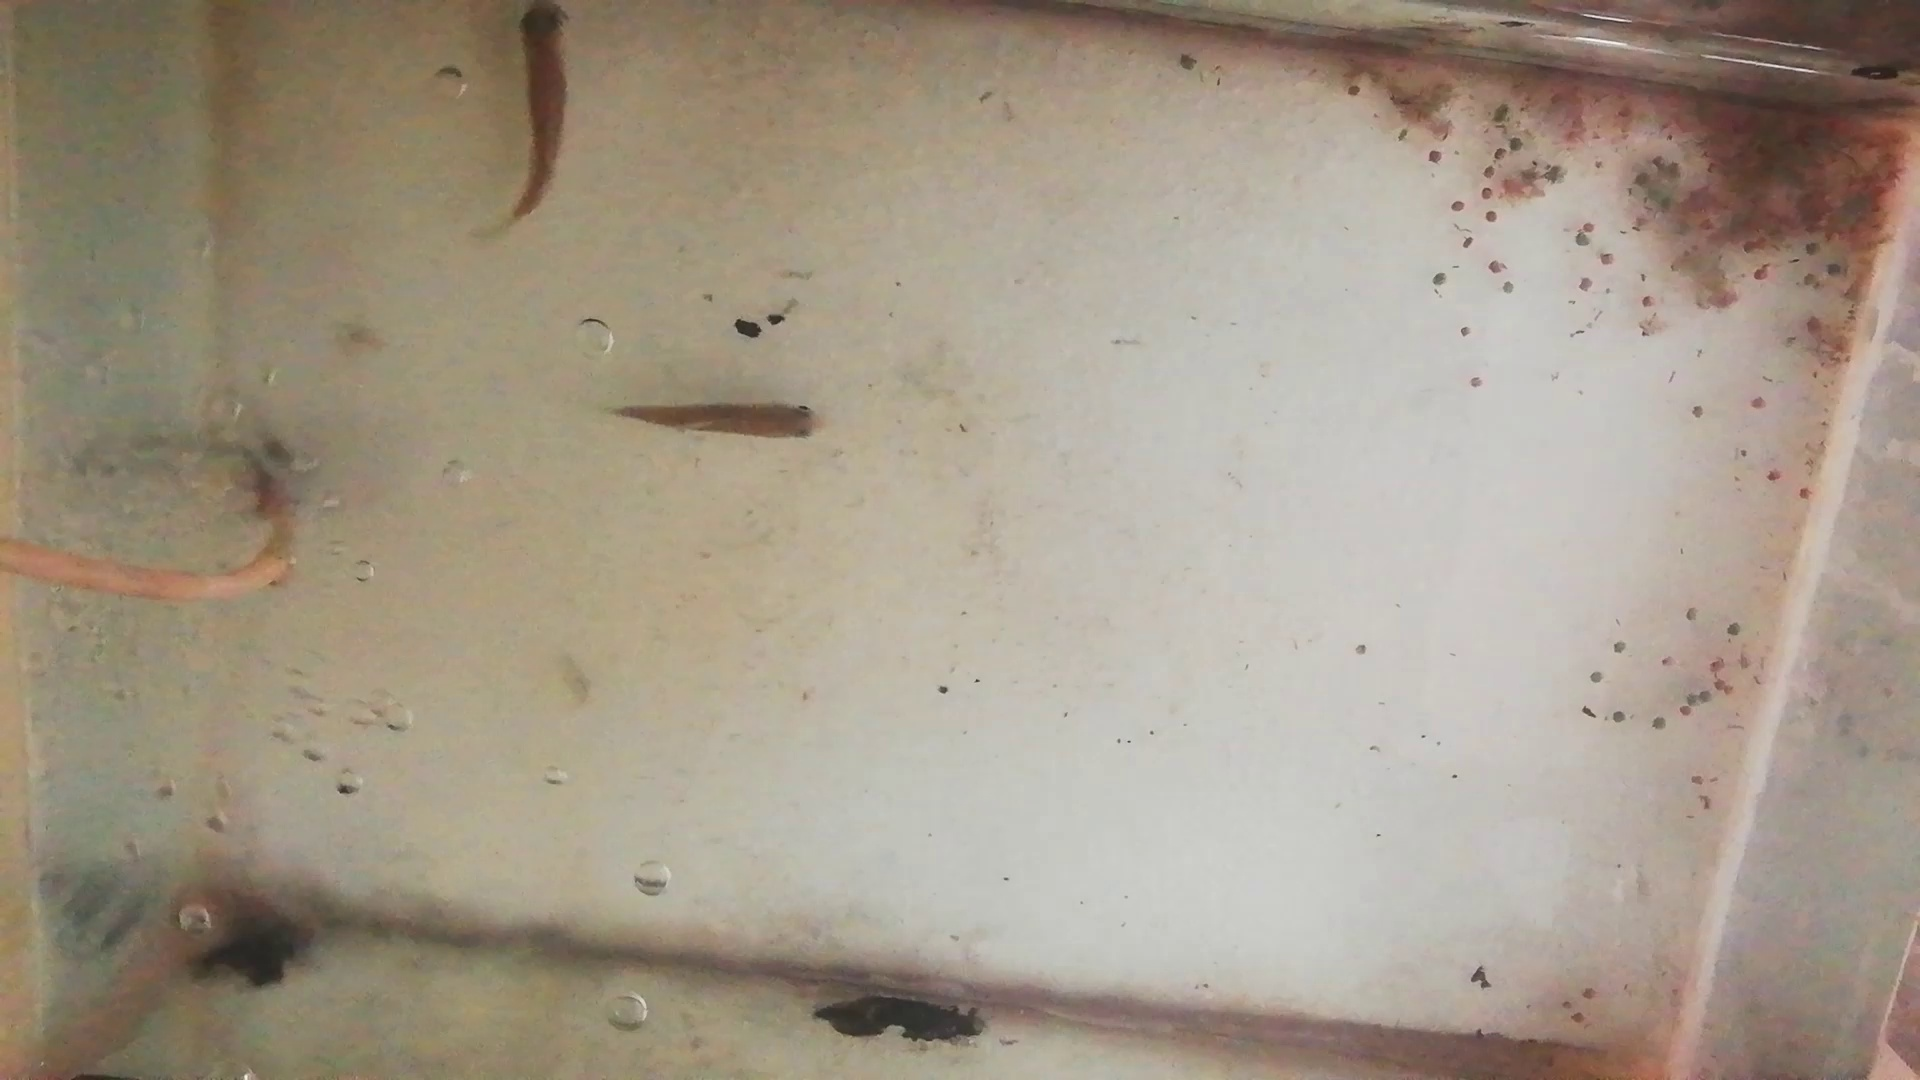fish: (506, 1, 571, 216), (613, 396, 832, 444)
